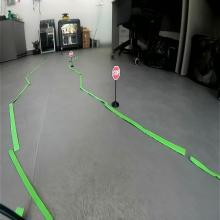stop: (111, 65, 121, 79)
